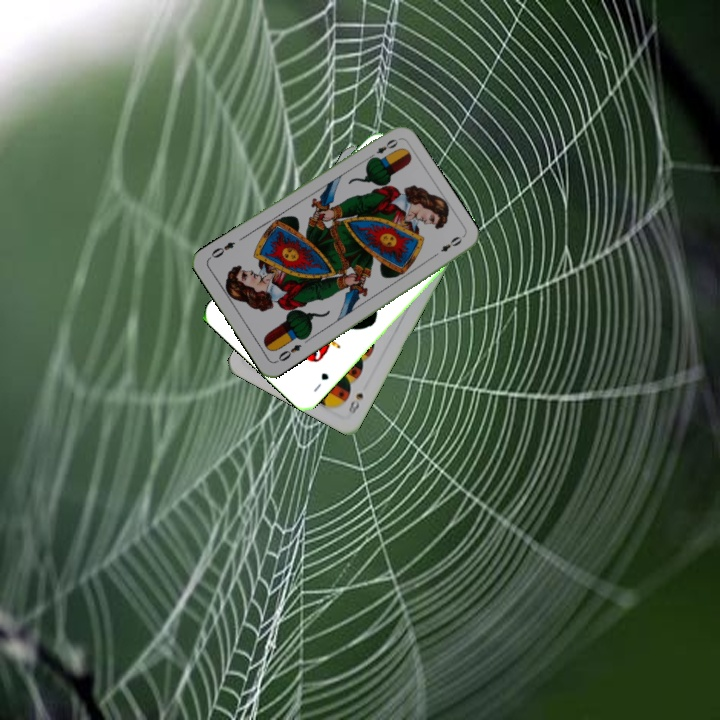EO: (364, 135, 401, 163), (272, 340, 304, 365)
GU: (310, 369, 331, 395)
S8: (344, 389, 366, 418)
